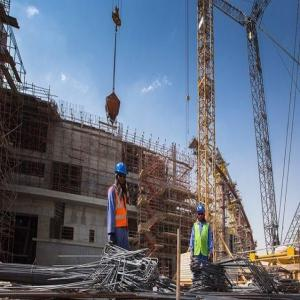blue: (114, 164, 129, 186), (197, 205, 206, 223)
